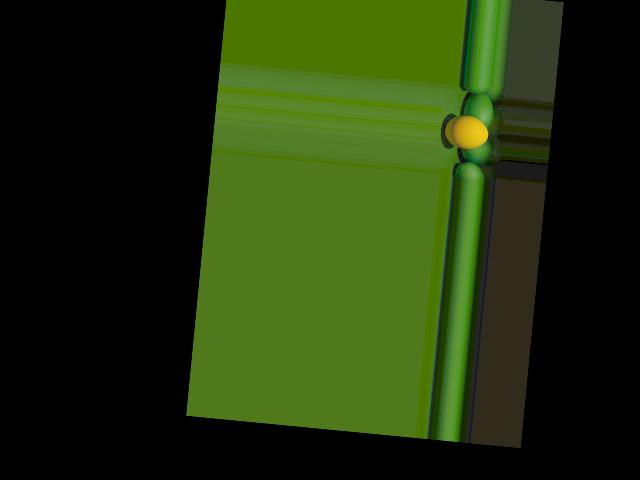egg: (443, 113, 489, 150)
